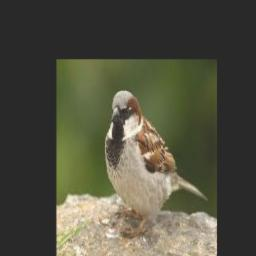Sparrow: (105, 90, 208, 239)
